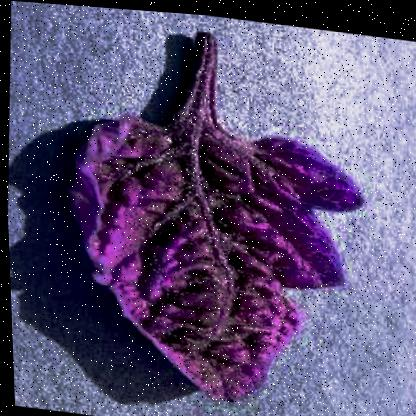Virus: (49, 10, 381, 415)
